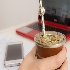guampa: (22, 1, 68, 66)
